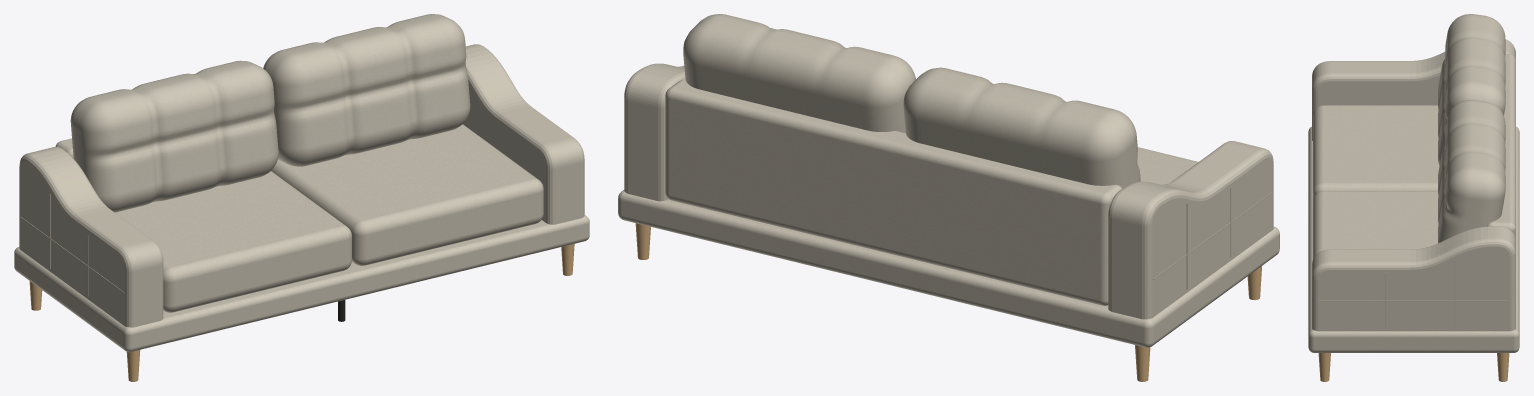
Rendered from ownDanSofa.glb.
3 views of the same model, side by side, from view 1: azimuth 30°, elevation 25°; view 2: azimuth 150°, elevation 25°; view 3: azimuth 270°, elevation 25° (orthographic). The views are drawn at different scales.
Bounding box in the file's own units: 2.1 × 0.899 × 0.9.
Materials: 4 (2 with a texture image).
